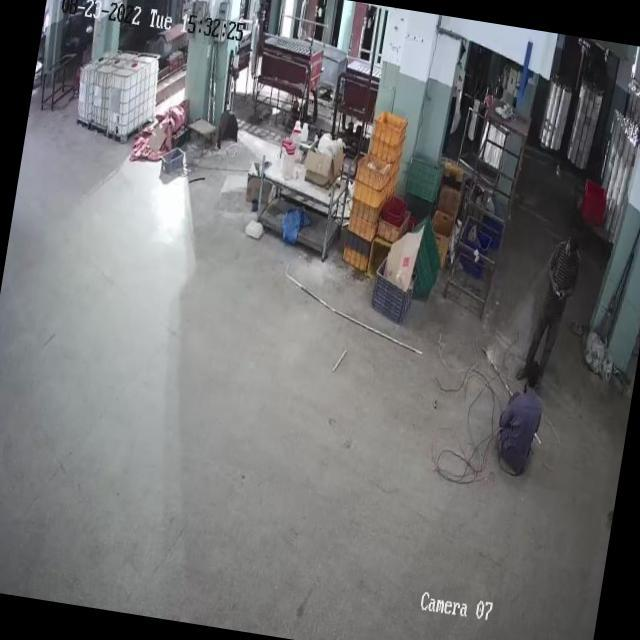person: (524, 228, 581, 392), (493, 372, 549, 480)
